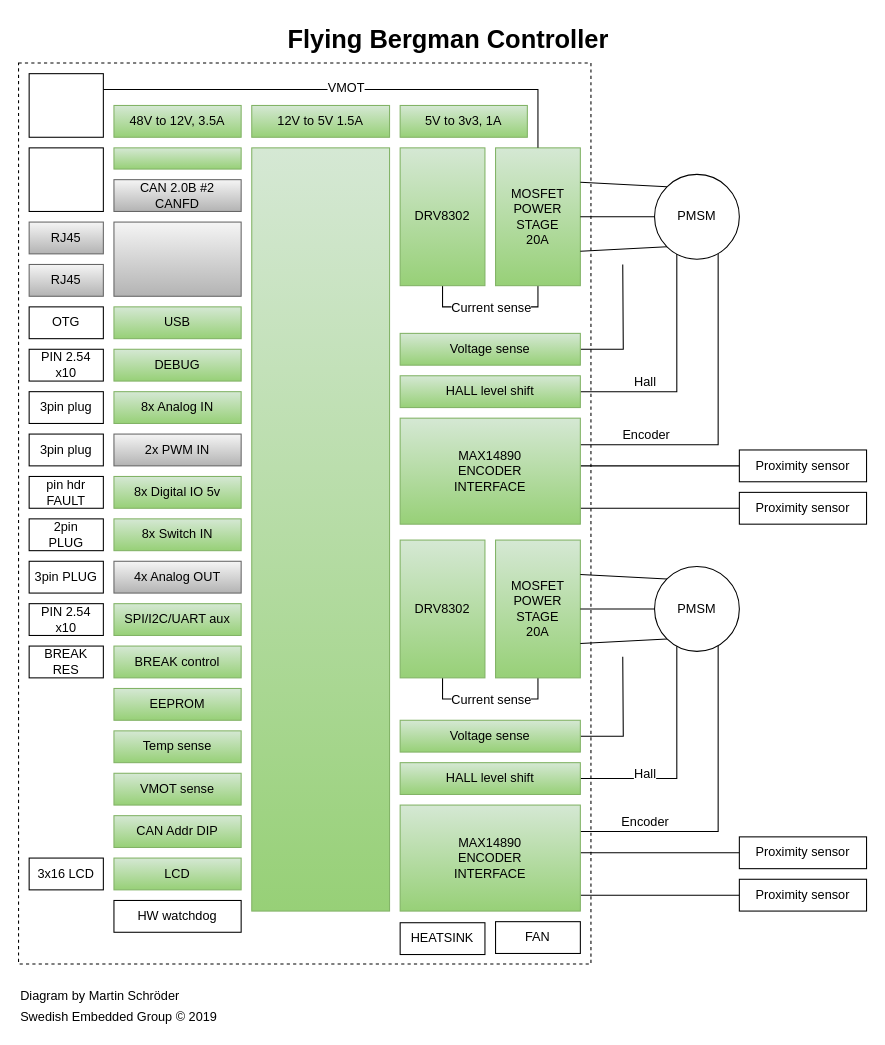
Some shapes in this 885 by 1045 pixel diagram are drawn without their labels. The shapes that lost their labels are listed below. From the top down, each one's box as (x1, y1, x2, y2) in pixels, then its label:
(28, 73, 103, 137): 48V 40A PLUG
(113, 147, 241, 169): CAN 2.0B #1
(28, 147, 103, 211): PLUG TERMINAL 3.5mm
(113, 221, 241, 296): ETHERCAT LAN9262
(251, 147, 390, 911): STM32
